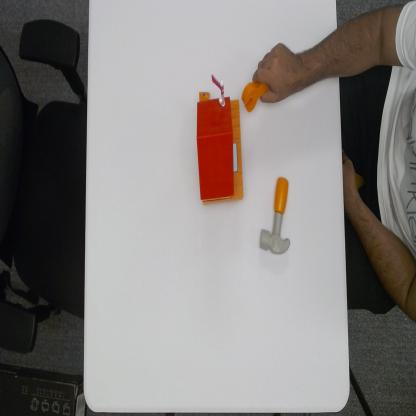Hammer: (259, 174, 292, 256)
Hand: (251, 39, 310, 104)
House: (196, 70, 244, 210)
Screwdriver: (241, 77, 272, 114)
